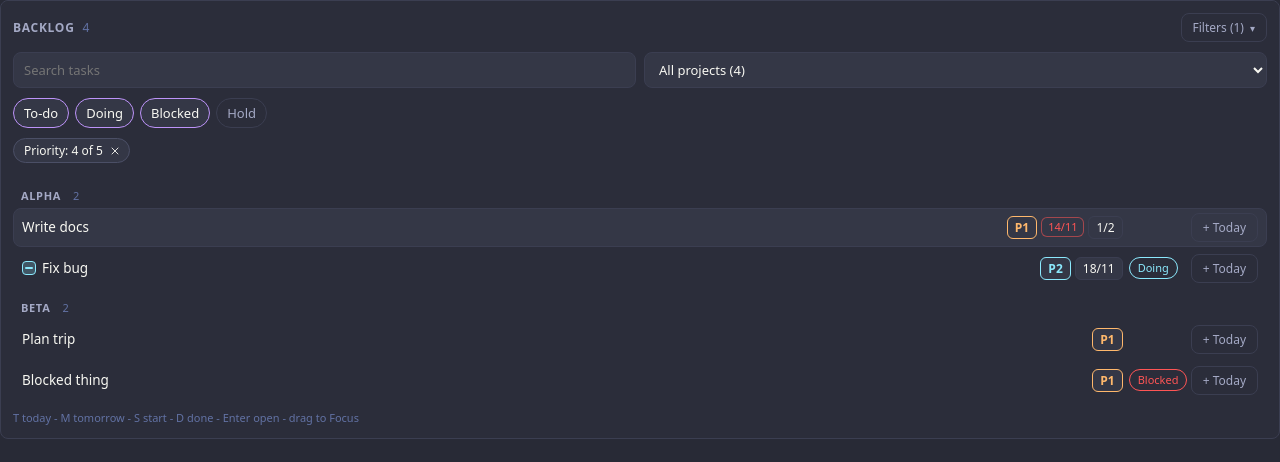
Test: BacklogPanel › removes the priority chip to show every priority again
The width and height of the screenshot is (1280, 462).
Click the button with aria-label "Remove filter Priority: ".
click(71, 150)  # box [13,138,130,163]
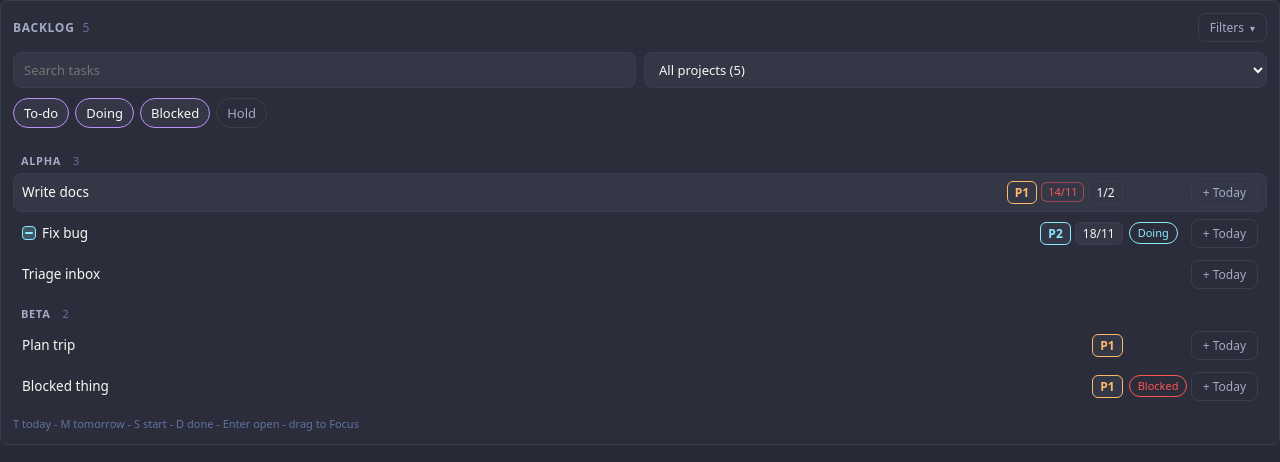
Check: the text "Triage inbox" is shown, box [22,265,100,283]
